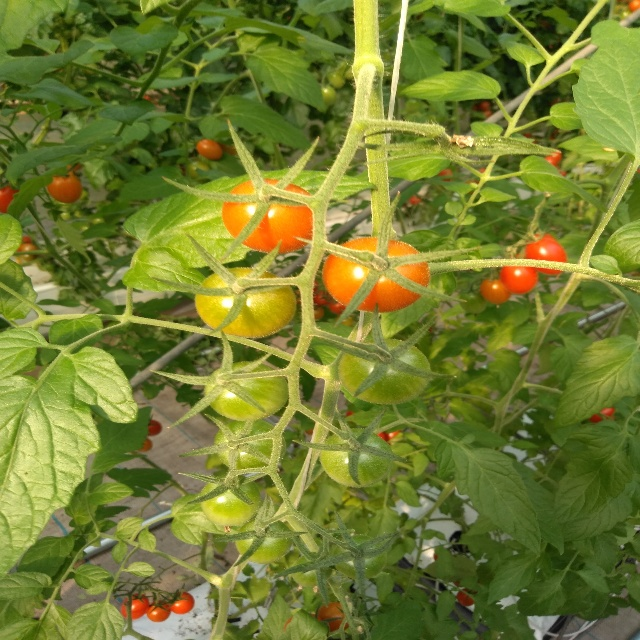l_fully_ripened: (524, 239, 567, 275), (501, 257, 538, 295), (121, 594, 150, 620), (168, 591, 195, 615), (146, 600, 171, 622)
l_green: (337, 339, 434, 406), (203, 361, 290, 421), (319, 428, 395, 487), (214, 419, 287, 471), (199, 473, 261, 526), (236, 515, 293, 565), (333, 533, 387, 580), (292, 551, 334, 587)
l_half_ripened: (322, 236, 430, 313), (221, 178, 319, 255), (195, 267, 297, 339), (316, 602, 357, 633), (48, 173, 81, 204), (479, 278, 511, 306), (196, 139, 222, 160)
